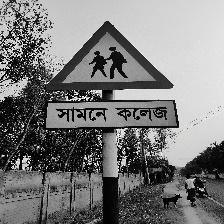College-in-front: (56, 23, 177, 144)
